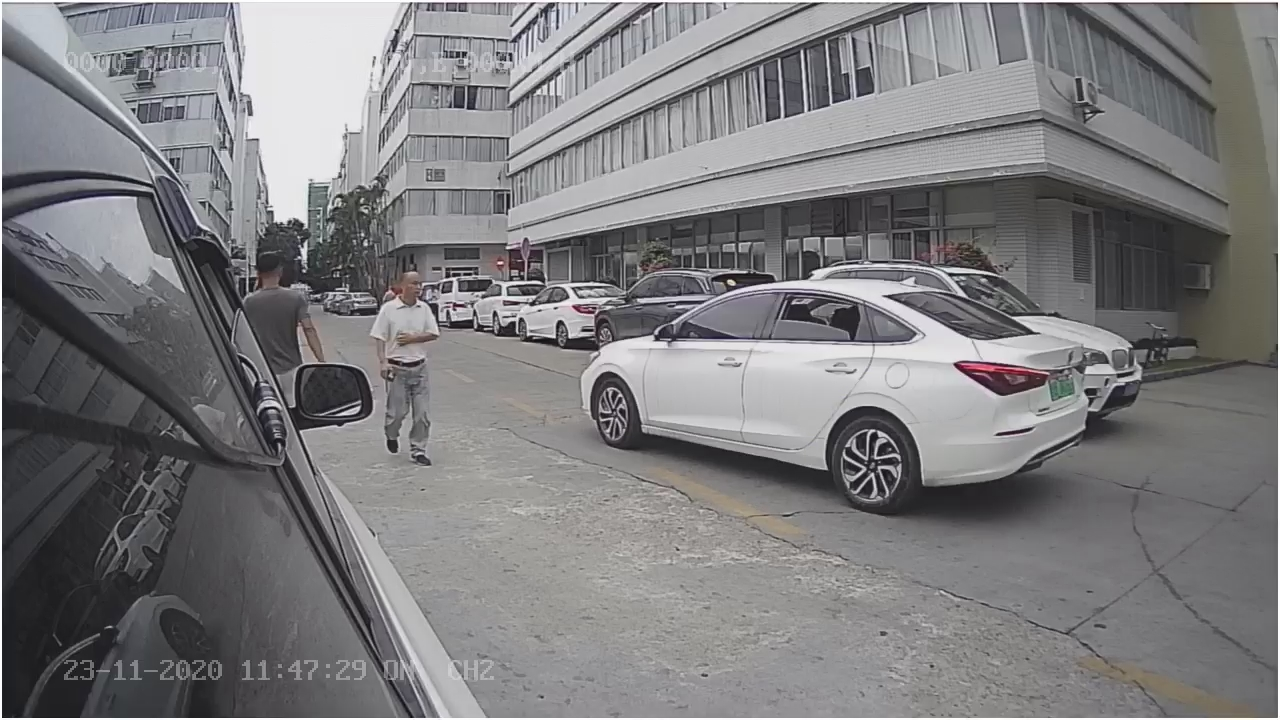person: (371, 258, 440, 467)
